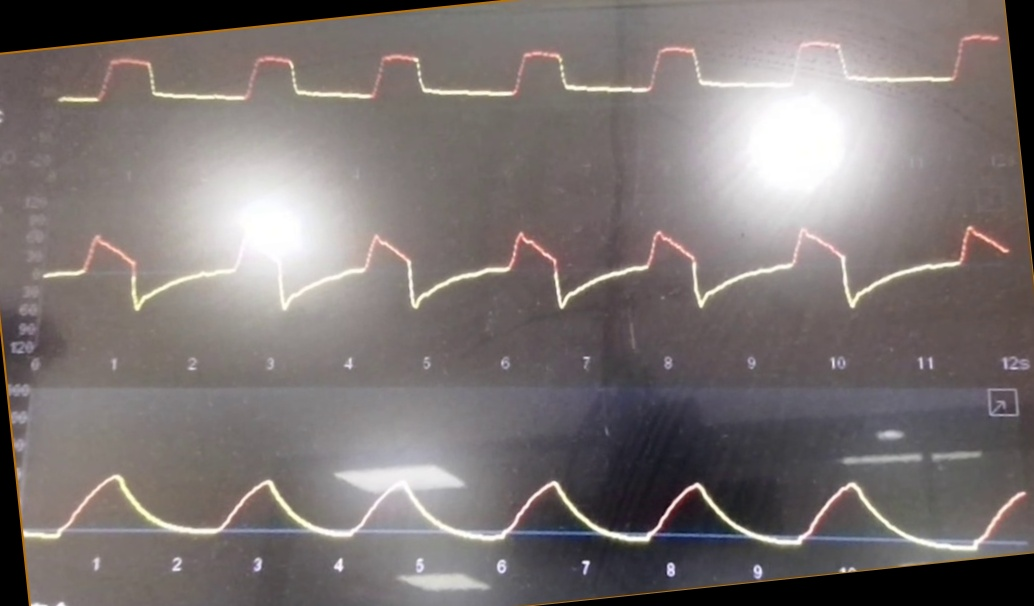Normal Flow: (46, 207, 1015, 340)
Normal Volume: (25, 429, 1025, 553)
